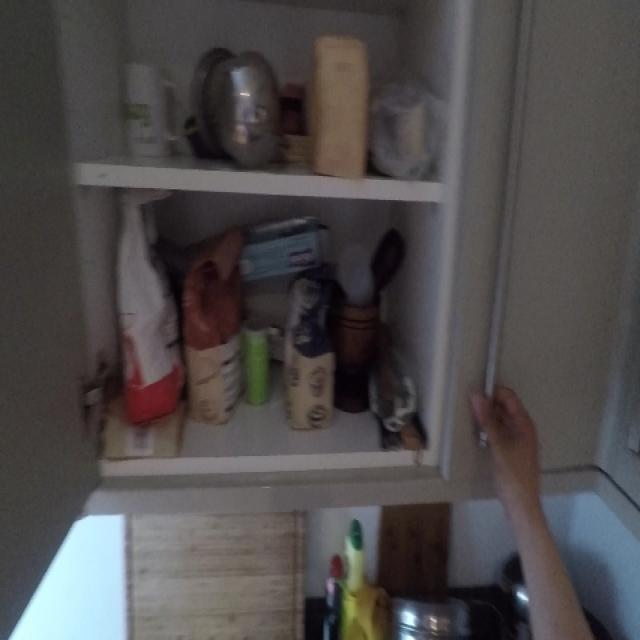mug: (110, 53, 190, 165)
right hand: (470, 379, 559, 562)
